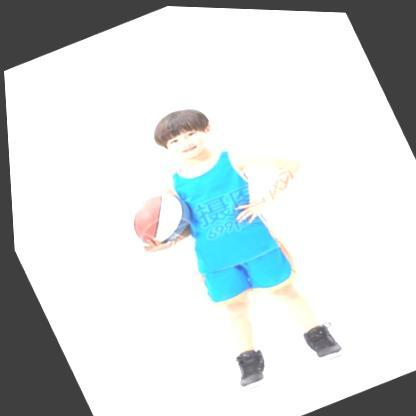basketball: (109, 181, 197, 254)
